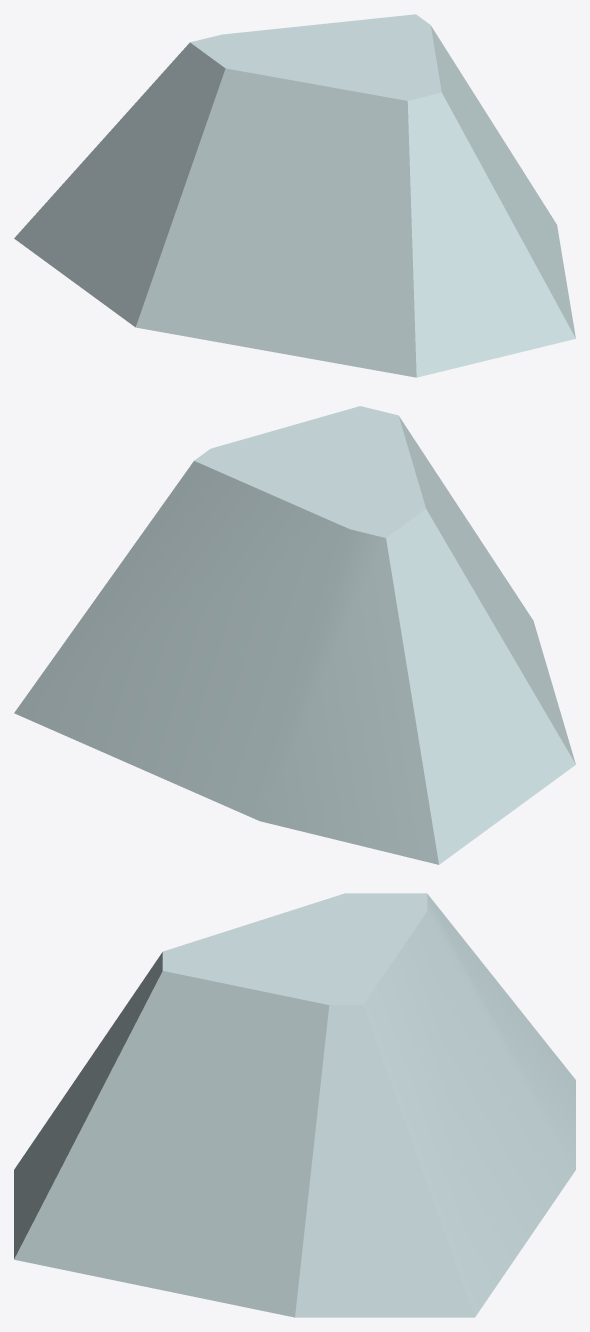
The model's file is nature-kit-classic--stone-small2.glb.
3 renders of one model, top to bottom at view 1: azimuth 30°, elevation 25°; view 2: azimuth 150°, elevation 25°; view 3: azimuth 270°, elevation 25°, orthographic. The views are drawn at different scales.
Parts seen in each view (by area): view 1: stone_small2; view 2: stone_small2; view 3: stone_small2.
Part boxes in pixels (bbox=[...]): stone_small2: bbox=[14, 14, 575, 377]; stone_small2: bbox=[14, 406, 575, 864]; stone_small2: bbox=[14, 893, 575, 1317].
Bounding box in the file's own units: 0.3608 × 0.1768 × 0.3608.
